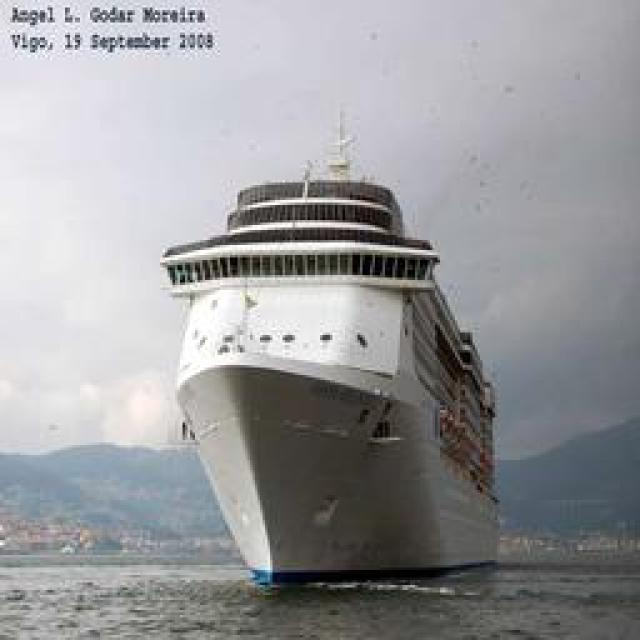Ship: (170, 159, 508, 584)
